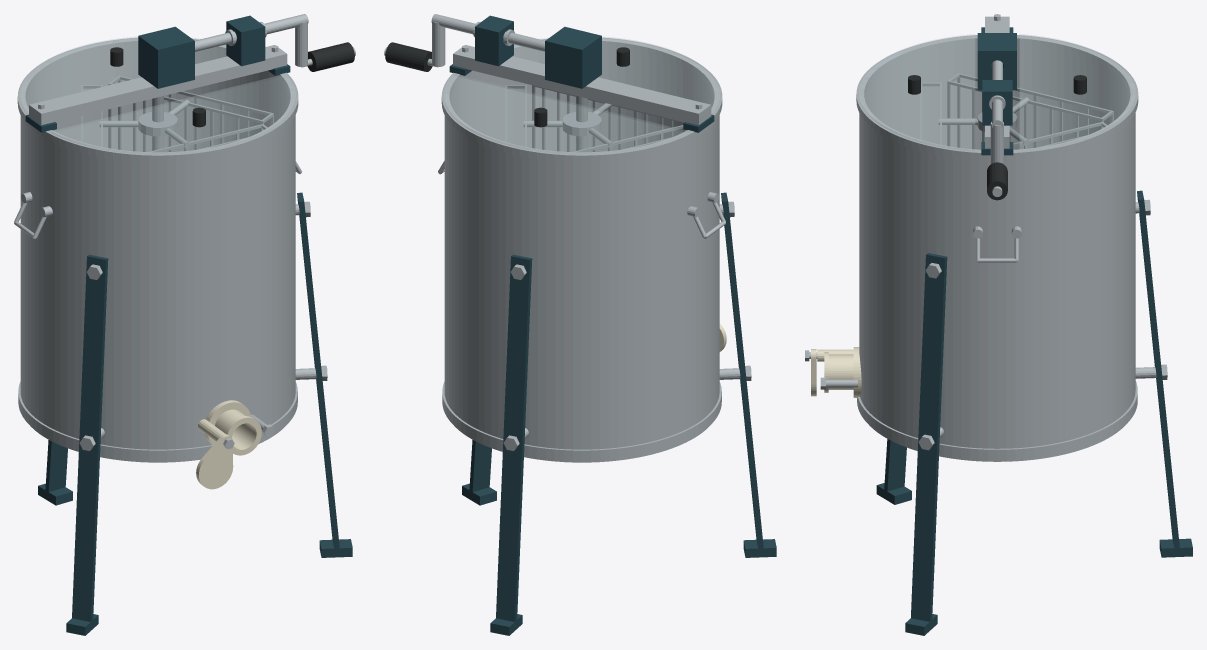
The model's file is NEW447_honey_extractor_LOD0.glb.
3 renders of one model, left to right at view 1: azimuth 30°, elevation 25°; view 2: azimuth 150°, elevation 25°; view 3: azimuth 270°, elevation 25°, orthographic.
Parts seen in each view (by area): view 1: Vessel_complete_shell, Removable_cover_front, Leg_0, Removable_cover_rear, Bridge_crossbar, Enclosed_drive_head_INFERRED, Leg_1, Carrier_0_complete, Horizontal_shaft_pedestal, Open_swing_gate_plate_complete, Crank_grip, Leg_2 (+8 smaller); view 2: Vessel_complete_shell, Removable_cover_rear, Leg_2, Removable_cover_front, Bridge_crossbar, Enclosed_drive_head_INFERRED, Leg_0, Carrier_2_complete, Horizontal_shaft_pedestal, Crank_grip, Leg_1, Horizontal_drive_shaft (+4 smaller); view 3: Vessel_complete_shell, Removable_cover_front, Removable_cover_rear, Leg_1, Carrier_1_complete, Leg_2, Enclosed_drive_head_INFERRED, Horizontal_shaft_pedestal, Leg_0, Gate_through_sleeve, Bridge_crossbar, Crank_grip (+3 smaller).
Boxes of the visible parts, x1,y1,x2,y2 form: Vessel_complete_shell: [17, 37, 298, 462]; Removable_cover_front: [51, 74, 295, 153]; Leg_0: [72, 254, 108, 622]; Removable_cover_rear: [20, 37, 226, 114]; Bridge_crossbar: [29, 45, 287, 125]; Enclosed_drive_head_INFERRED: [138, 26, 194, 88]; Leg_1: [297, 192, 339, 549]; Carrier_0_complete: [108, 75, 273, 151]; Horizontal_shaft_pedestal: [226, 15, 265, 66]; Open_swing_gate_plate_complete: [196, 434, 233, 489]; Crank_grip: [307, 42, 354, 71]; Leg_2: [45, 440, 67, 492]; Vessel_complete_shell: [441, 37, 722, 462]; Removable_cover_rear: [444, 74, 688, 154]; Leg_2: [496, 254, 532, 621]; Removable_cover_front: [513, 37, 719, 113]; Bridge_crossbar: [453, 45, 711, 125]; Enclosed_drive_head_INFERRED: [545, 26, 601, 88]; Leg_0: [721, 192, 763, 549]; Carrier_2_complete: [532, 85, 683, 151]; Horizontal_shaft_pedestal: [475, 15, 513, 66]; Crank_grip: [385, 42, 432, 71]; Leg_1: [469, 440, 491, 493]; Horizontal_drive_shaft: [431, 14, 544, 51]; Vessel_complete_shell: [856, 35, 1138, 461]; Removable_cover_front: [859, 34, 974, 150]; Removable_cover_rear: [1020, 34, 1135, 151]; Leg_1: [911, 253, 947, 622]; Carrier_1_complete: [947, 73, 1113, 149]; Leg_2: [1137, 190, 1179, 548]; Enclosed_drive_head_INFERRED: [977, 33, 1016, 90]; Horizontal_shaft_pedestal: [982, 80, 1012, 125]; Leg_0: [884, 439, 906, 492]; Gate_through_sleeve: [828, 354, 853, 389]; Bridge_crossbar: [985, 16, 1009, 148]; Crank_grip: [987, 162, 1007, 200].
Bounding box in the file's own units: 0.7105 × 1.04 × 0.7018.
